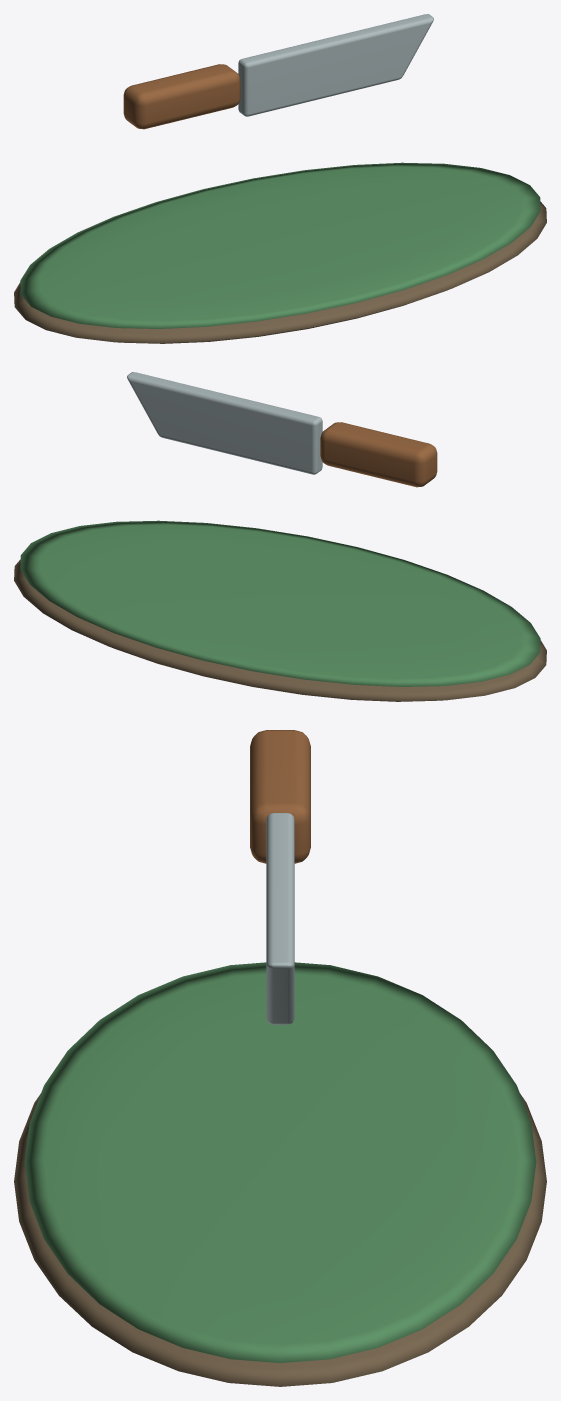
Rendered from knife.glb.
3 renders of one model, top to bottom at view 1: azimuth 30°, elevation 25°; view 2: azimuth 150°, elevation 25°; view 3: azimuth 270°, elevation 25°, orthographic. The views are drawn at different scales.
Parts seen in each view (by area): view 1: knife_surface_01, knife_surface_03, knife_surface_00, knife_surface_02; view 2: knife_surface_01, knife_surface_03, knife_surface_00, knife_surface_02; view 3: knife_surface_01, knife_surface_00, knife_surface_02, knife_surface_03.
Boxes of the visible parts, x1=… form: knife_surface_01: x1=20, y1=162, x2=540, y2=328; knife_surface_03: x1=238, y1=14, x2=433, y2=116; knife_surface_00: x1=14, y1=201, x2=546, y2=343; knife_surface_02: x1=123, y1=64, x2=240, y2=129; knife_surface_01: x1=20, y1=520, x2=540, y2=686; knife_surface_03: x1=127, y1=372, x2=322, y2=474; knife_surface_00: x1=14, y1=559, x2=546, y2=701; knife_surface_02: x1=320, y1=422, x2=437, y2=487; knife_surface_01: x1=24, y1=962, x2=536, y2=1362; knife_surface_00: x1=14, y1=1093, x2=546, y2=1386; knife_surface_02: x1=250, y1=730, x2=310, y2=863; knife_surface_03: x1=266, y1=813, x2=294, y2=1024.
Bounding box in the file's own units: 4.56 × 1.89 × 2.5.
